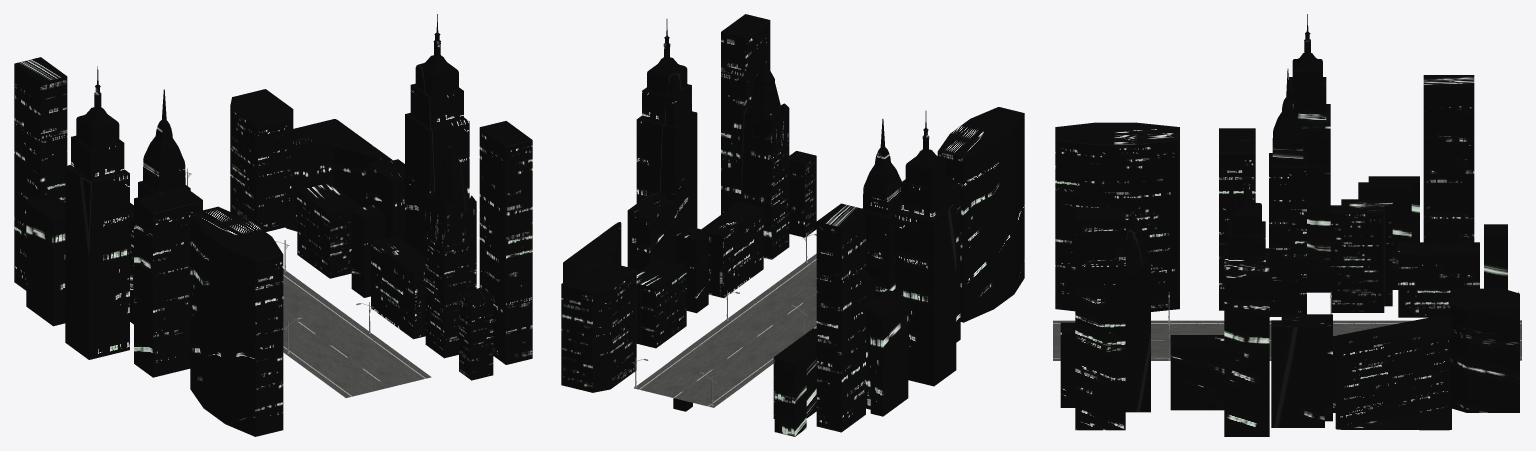
3 views of the same model, side by side, from view 1: azimuth 30°, elevation 25°; view 2: azimuth 150°, elevation 25°; view 3: azimuth 270°, elevation 25° (orthographic). The views are drawn at different scales.
Visible parts, largest first — view 1: Object_30.001, Object_28.001, Object_40.002, Object_24.001, 道路, Object_40.001, Object_28, Object_37, Object_14, Object_10.002, Object_12.002, Object_6 (+6 smaller); view 2: Object_30.001, Object_28.001, 道路, Object_40.001, Object_14, Object_28, Object_37, Object_40.002, Object_10.002, Object_12.002, Object_35.001, Object_6 (+7 smaller); view 3: Object_30.001, Object_40.002, Object_42, Object_28, Object_40.001, Object_14, Object_35.001, Object_10.001, Object_10.003, Object_28.001, Object_12.001, Object_37 (+7 smaller).
Part boxes in pixels (box(x1,y1,x2,y2)): Object_30.001: box(190, 206, 283, 436); Object_28.001: box(65, 66, 129, 359); Object_40.002: box(479, 121, 532, 364); Object_24.001: box(134, 186, 202, 377); 道路: box(283, 269, 431, 397); Object_40.001: box(14, 57, 67, 290); Object_28: box(405, 14, 469, 256); Object_37: box(425, 136, 476, 358); Object_14: box(230, 89, 293, 231); Object_10.002: box(26, 198, 65, 326); Object_12.002: box(371, 236, 425, 339); Object_6: box(297, 183, 362, 278); Object_30.001: box(937, 107, 1024, 322); Object_28.001: box(895, 111, 956, 386); 道路: box(634, 253, 816, 407); Object_40.001: box(816, 203, 865, 432); Object_14: box(561, 261, 636, 392); Object_28: box(636, 19, 697, 263); Object_37: box(741, 52, 789, 259); Object_40.002: box(721, 14, 770, 214); Object_10.002: box(866, 290, 908, 416); Object_12.002: box(701, 201, 763, 297); Object_35.001: box(862, 119, 901, 297); Object_6: box(636, 258, 686, 348); Object_30.001: box(1055, 122, 1179, 311); Object_40.002: box(1075, 208, 1125, 430); Object_42: box(1335, 336, 1451, 430); Object_28: box(1224, 158, 1269, 436); Object_40.001: box(1423, 75, 1474, 242); Object_14: box(1450, 288, 1519, 412); Object_35.001: box(1269, 69, 1306, 316); Object_10.001: box(1330, 199, 1392, 312); Object_10.003: box(1271, 314, 1332, 427); Object_28.001: box(1289, 14, 1330, 292); Object_12.001: box(1398, 242, 1479, 317); Object_37: box(1125, 202, 1150, 412).
Size of the model in its own units: 52.51 by 41.42 by 63.65.
Materials: 4 (2 with a texture image).
